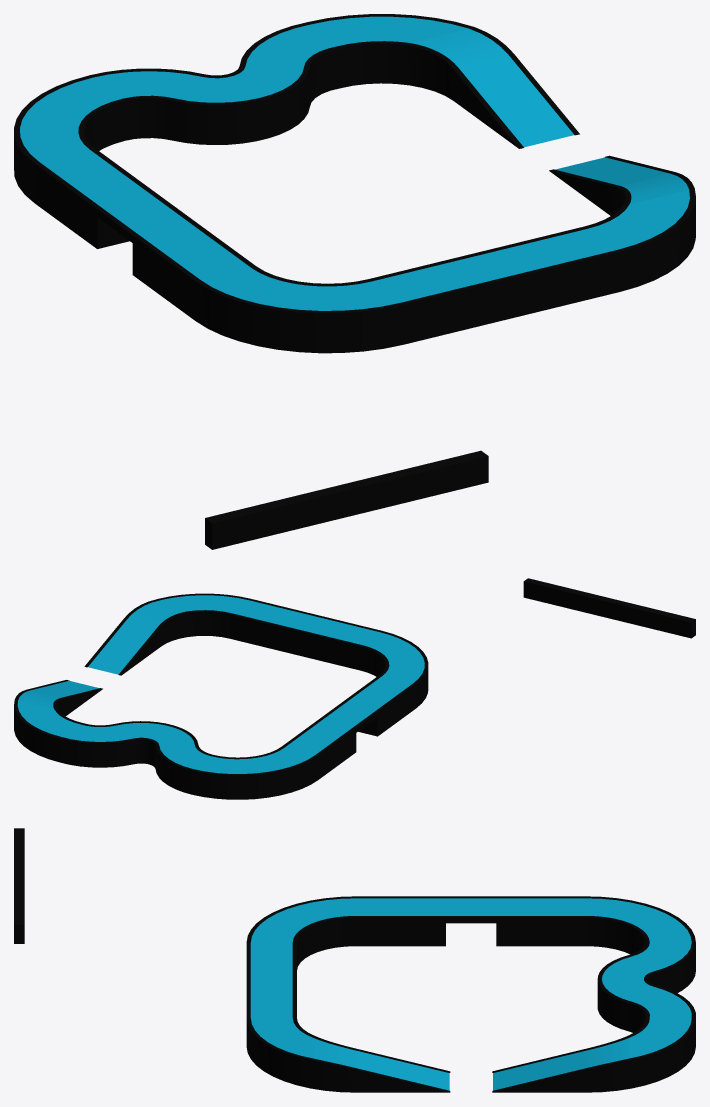
File: BridgeWallCollision_2.dae
3 views of the same model, one above another, from view 1: azimuth 30°, elevation 25°; view 2: azimuth 150°, elevation 25°; view 3: azimuth 270°, elevation 25° (orthographic). The views are drawn at different scales.
Visible parts, largest first — view 1: BridgeWallCollision; view 2: BridgeWallCollision; view 3: BridgeWallCollision.
Boxes of the visible parts, left/top/right/bottom form: BridgeWallCollision: left=14, top=14, right=695, bottom=549; BridgeWallCollision: left=14, top=578, right=695, bottom=799; BridgeWallCollision: left=14, top=828, right=695, bottom=1092.
Size of the model in its own units: 27.64 by 32.48 by 1.5.
